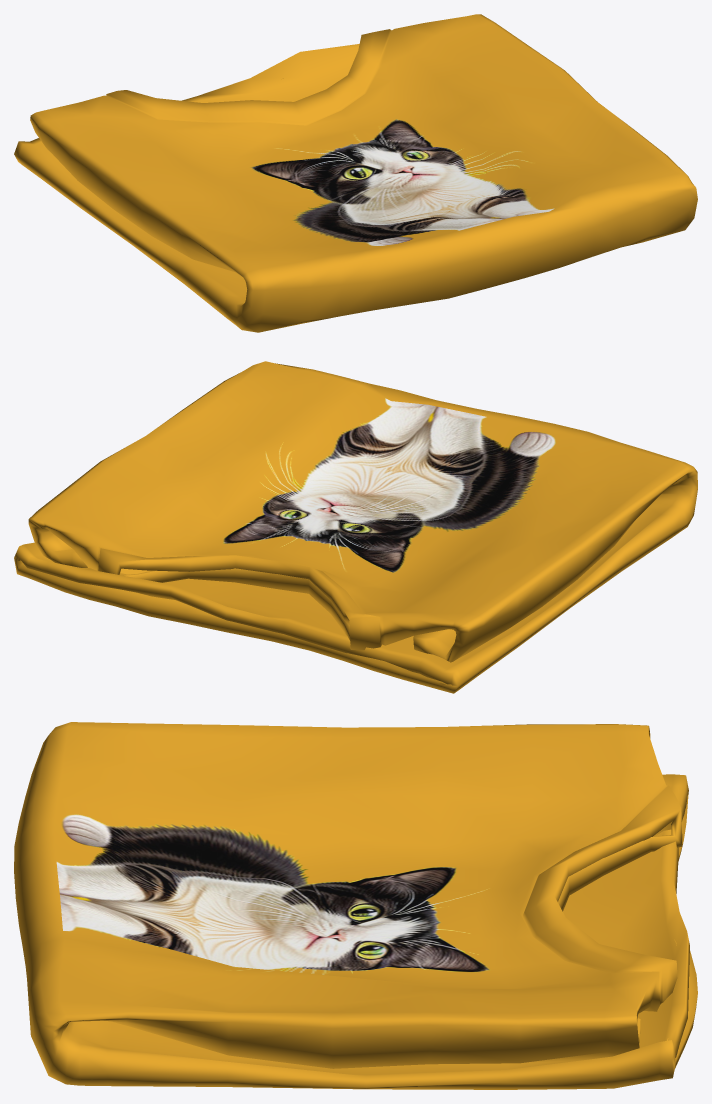
Rendered from Shirt 5.fbx.
3 renders of one model, top to bottom at view 1: azimuth 30°, elevation 25°; view 2: azimuth 150°, elevation 25°; view 3: azimuth 270°, elevation 25°, orthographic. The views are drawn at different scales.
Parts seen in each view (by area): view 1: shirt 5; view 2: shirt 5; view 3: shirt 5.
Boxes of the visible parts, x1,y1,x2,y2 form: shirt 5: (14, 14, 697, 332); shirt 5: (14, 361, 697, 693); shirt 5: (14, 722, 697, 1089).
Size of the model in its own units: 33.28 by 4.2 by 32.2.
Materials: 1 (1 with a texture image).
